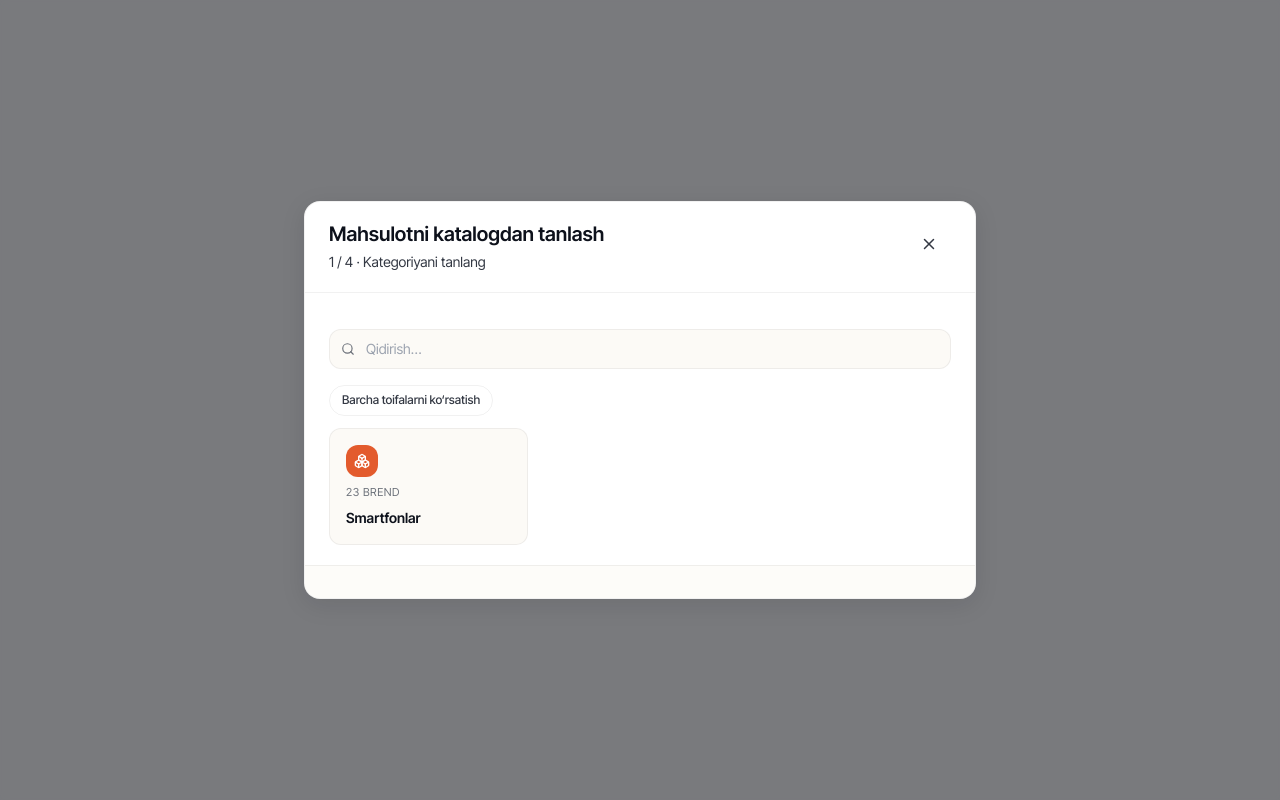
catalog picker respects and can cross the tenant segment › toggling back to segment-only hides the out-of-segment category again
Click the button "Barcha toifalarni ko‘rsatish". click: (411, 400)
box: [329,385,493,416]
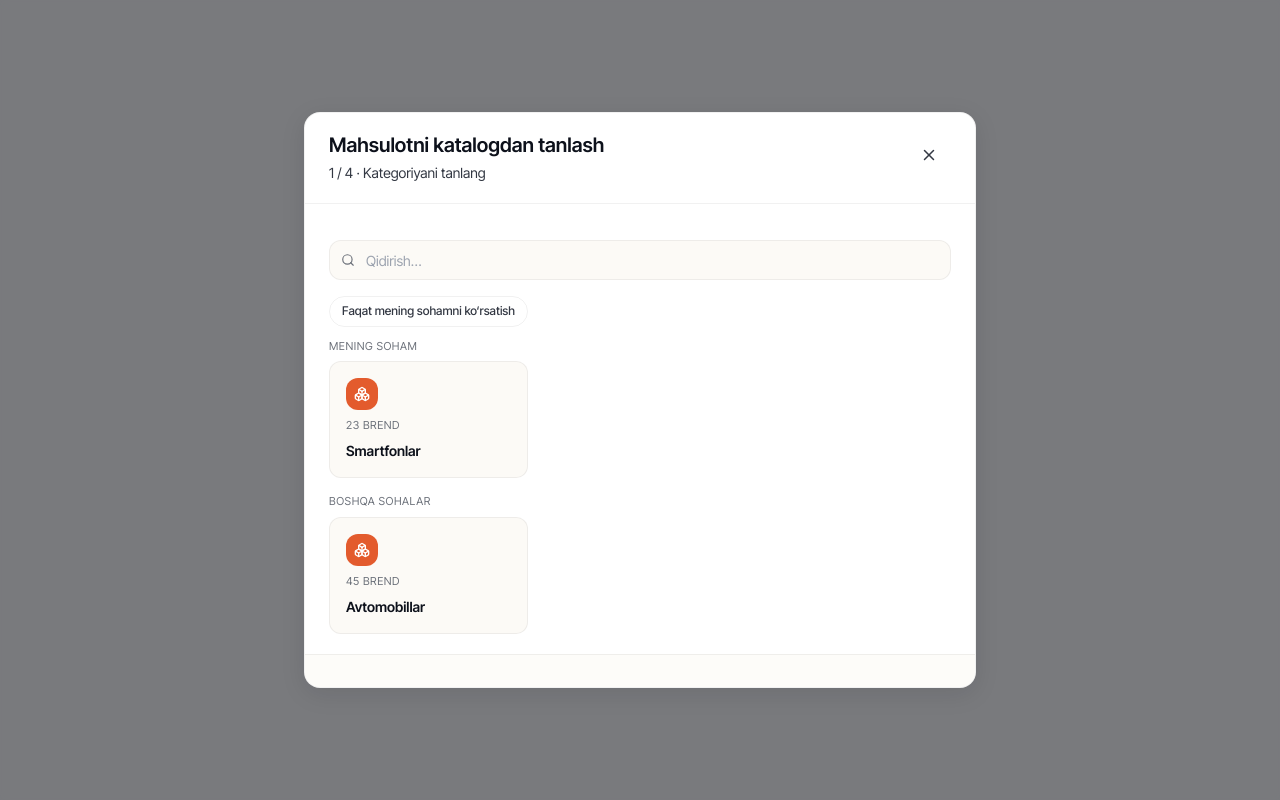
expect the text "Avtomobillar" is shown: met, box [346,596,425,617]
Click the button "Faqat mening sohamni ko‘rsatish". click: (428, 311)
box: [329,296,528,327]
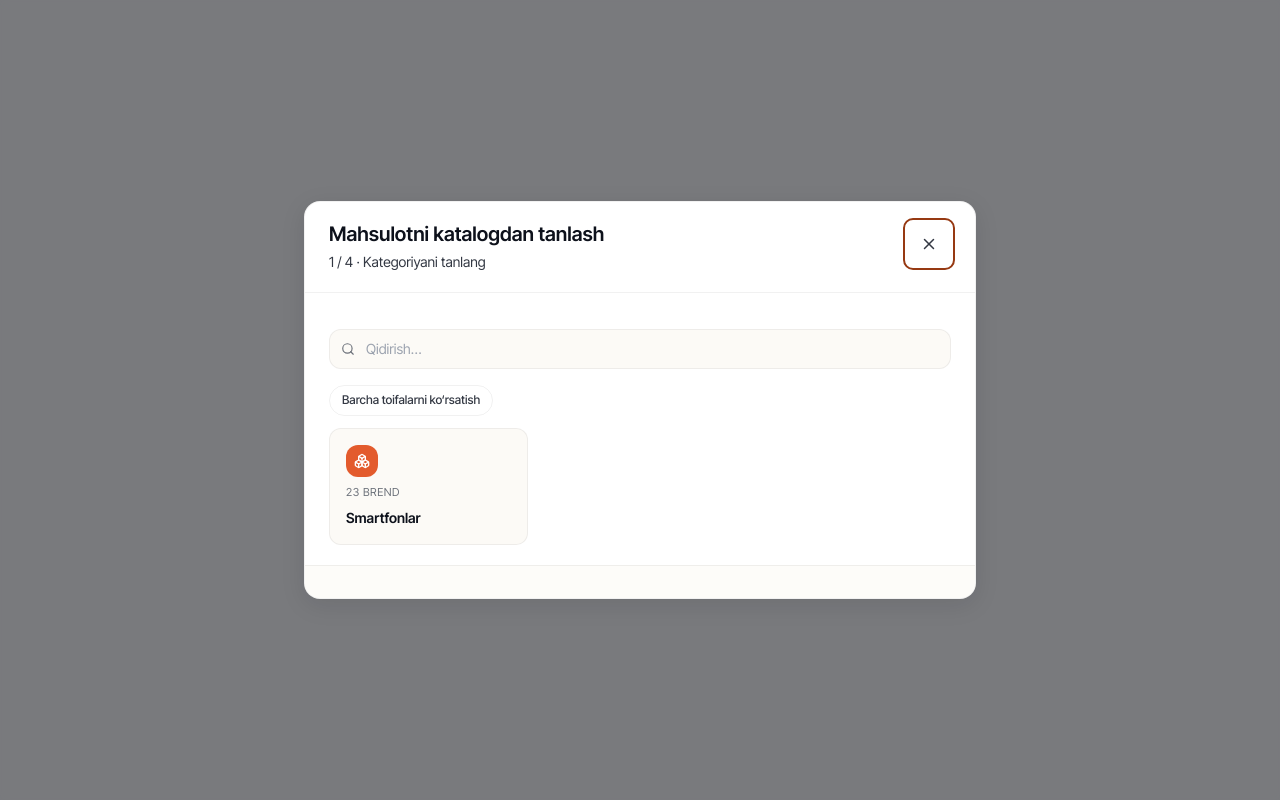
expect the button "Avtomobillar" is gone: met
expect the text "Boshqa sohalar" is gone: met
